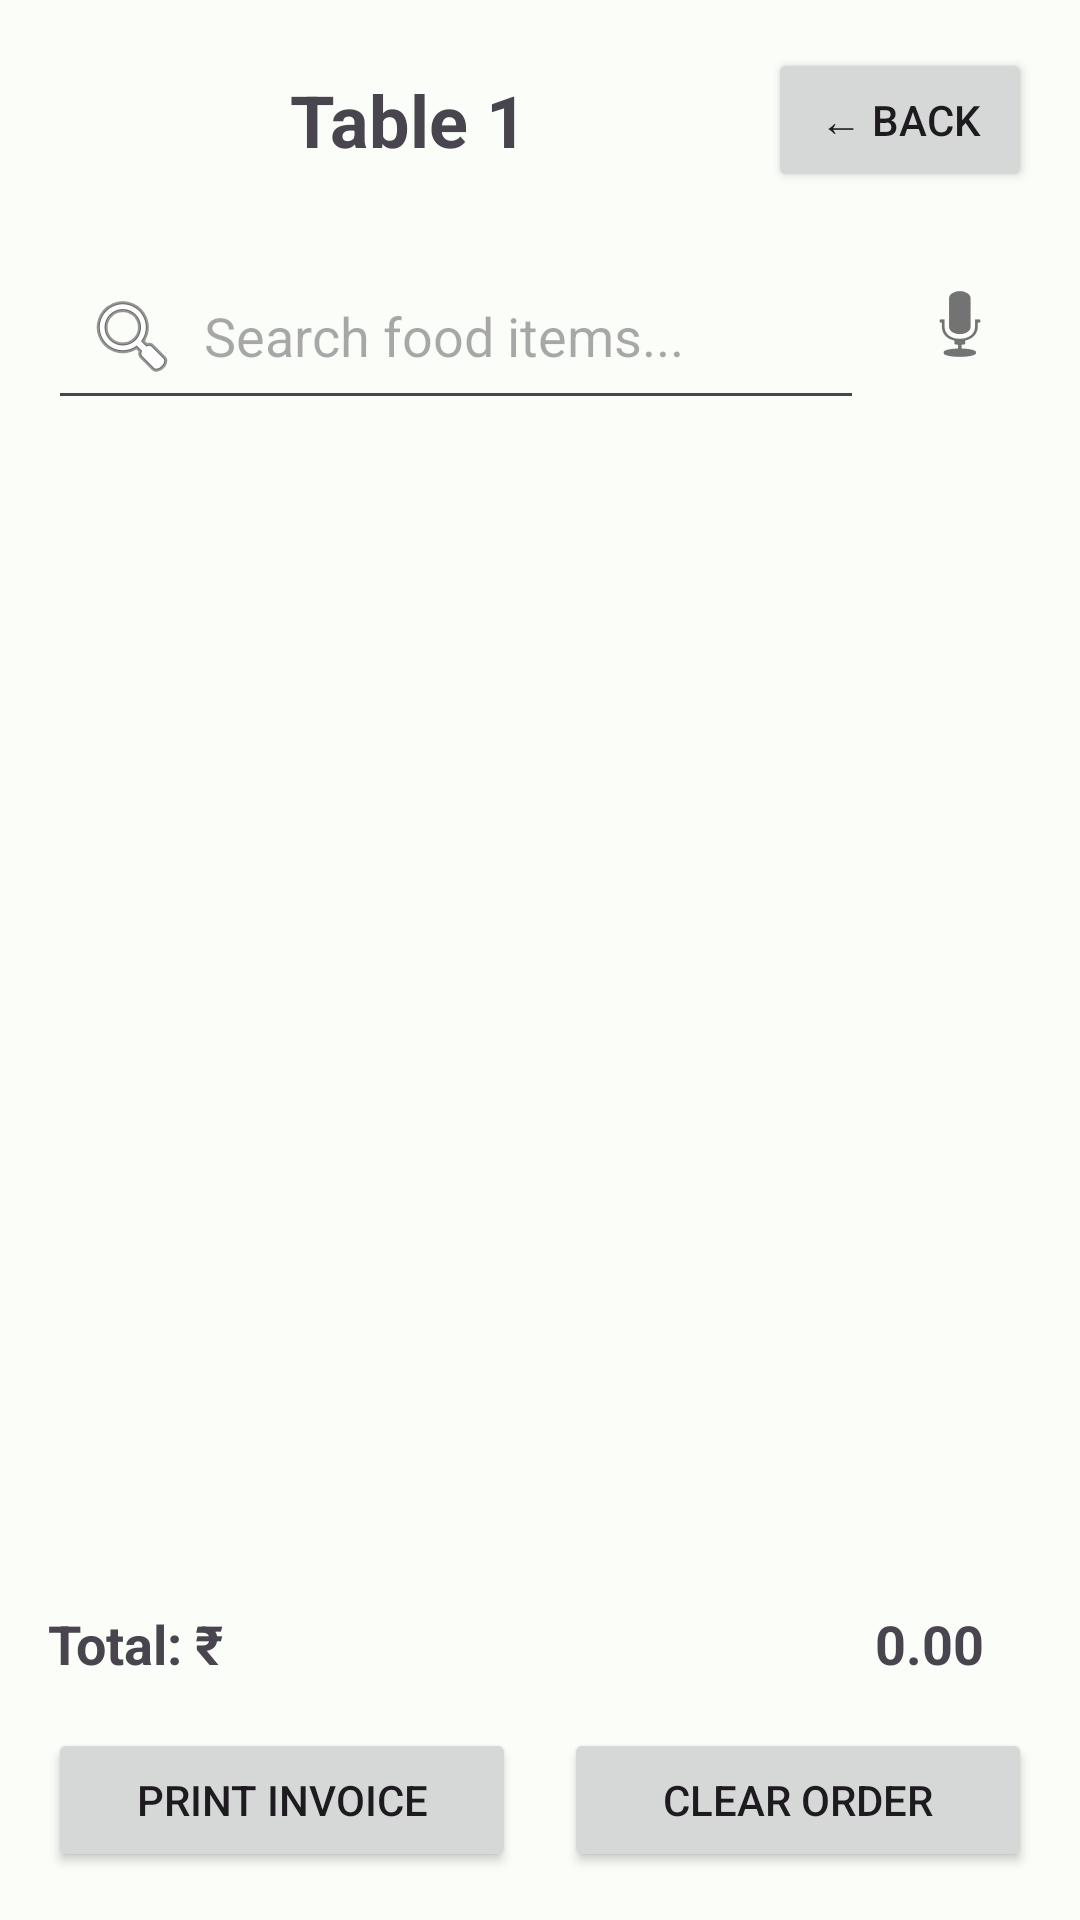

Icon click points for this 1080*1920 phone screenshot, format [x,y]:
Voice Search: [960,324]
